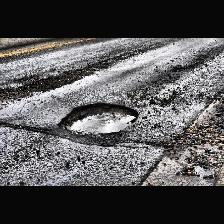pothole: (56, 102, 140, 134)
